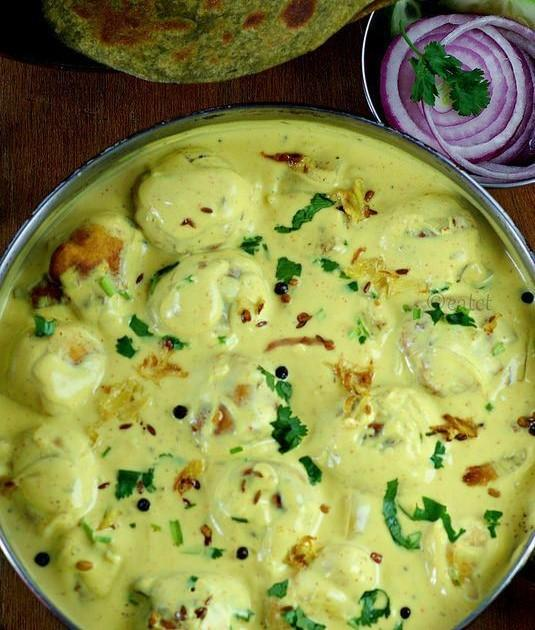RasMalai: (0, 120, 535, 630)
